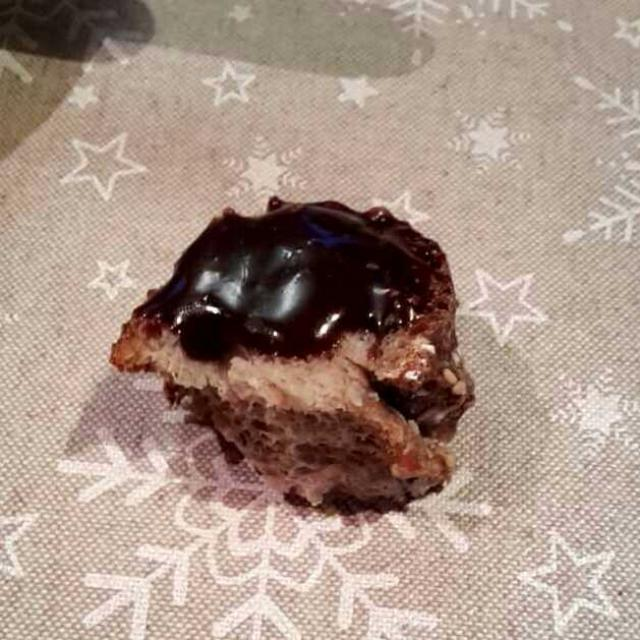bread: (120, 200, 474, 513)
nutella: (129, 181, 444, 389)
